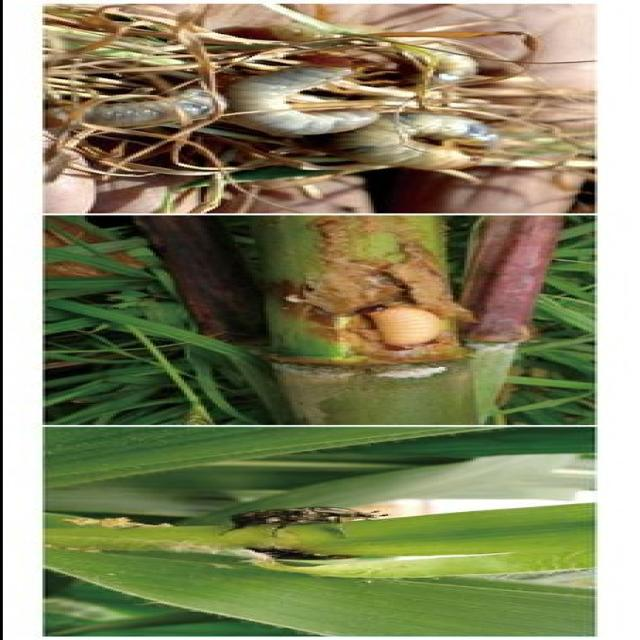grub: (235, 55, 413, 149), (342, 110, 521, 187), (52, 84, 250, 134), (222, 507, 397, 536), (351, 308, 450, 359)
